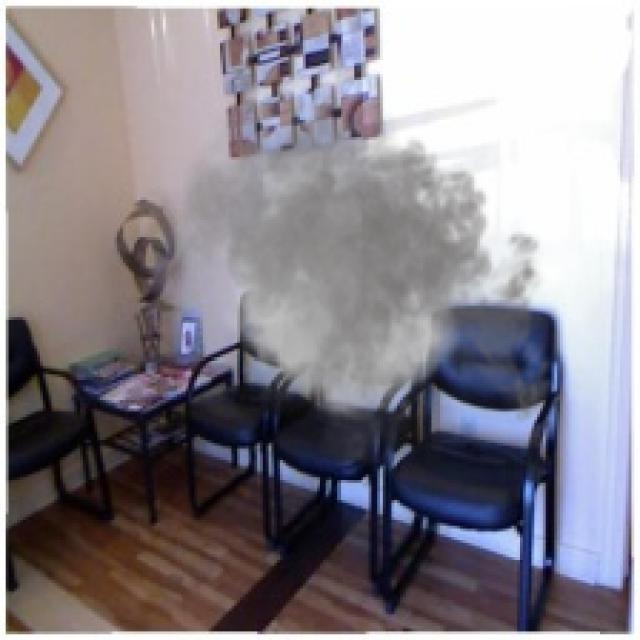Smoke: (165, 86, 566, 488)
